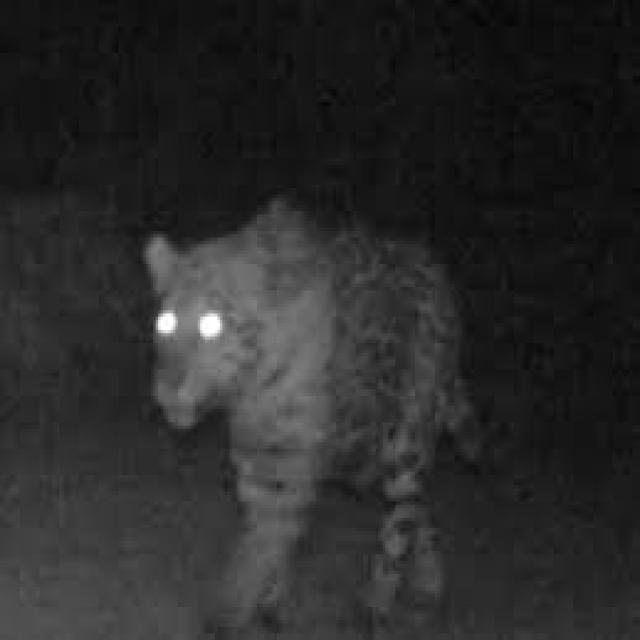Jaguar: (128, 194, 477, 626)
